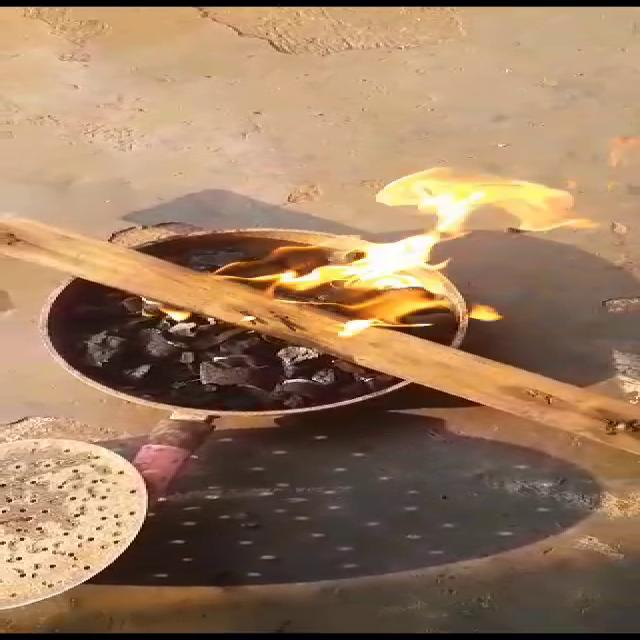Fire: (200, 143, 634, 342)
